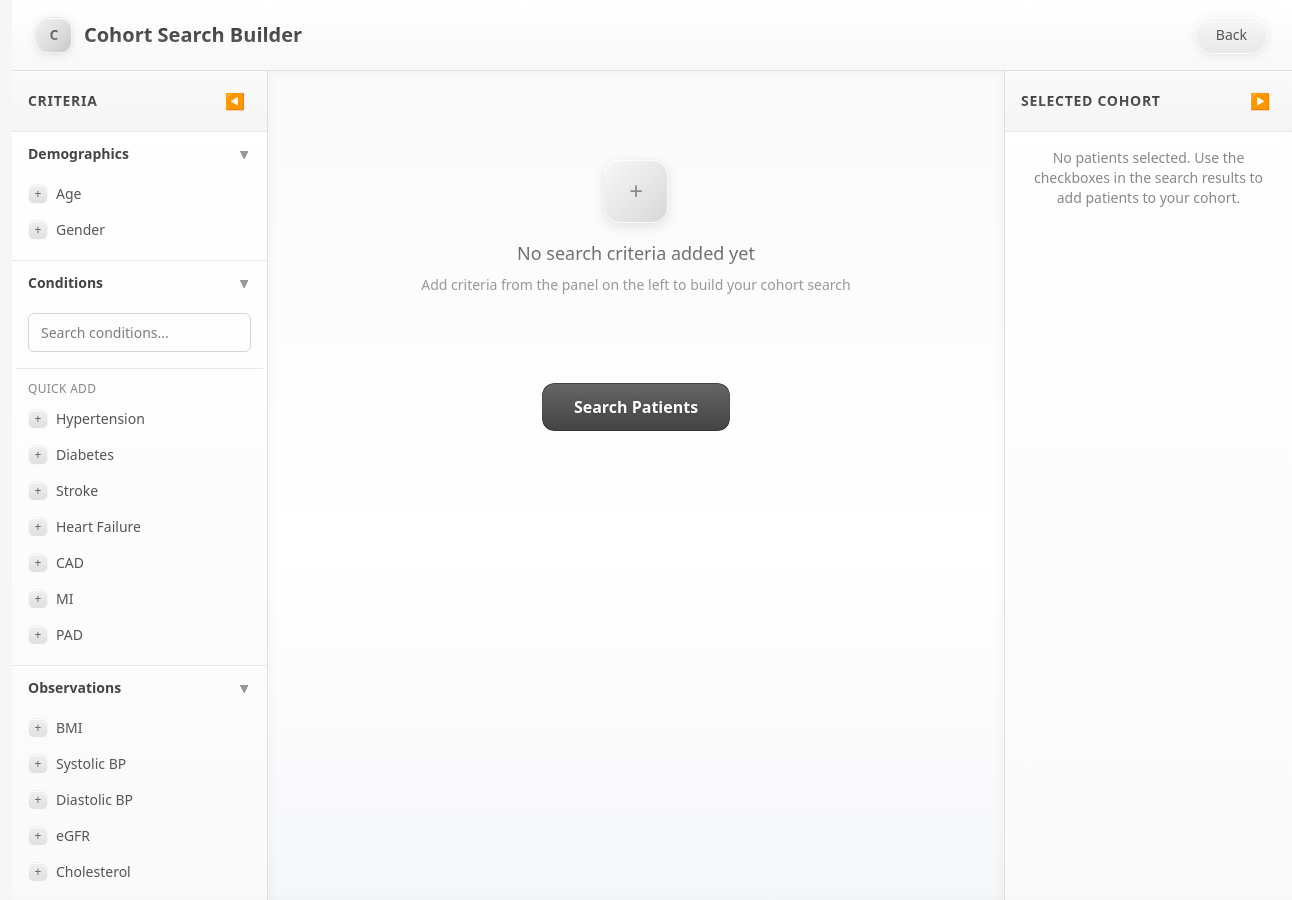
it: CohortBuilderPage › Adding criteria › should add age criterion when Age button clicked
Click the button with aria-label "Add Age": x=140, y=194 [16,176,263,212]
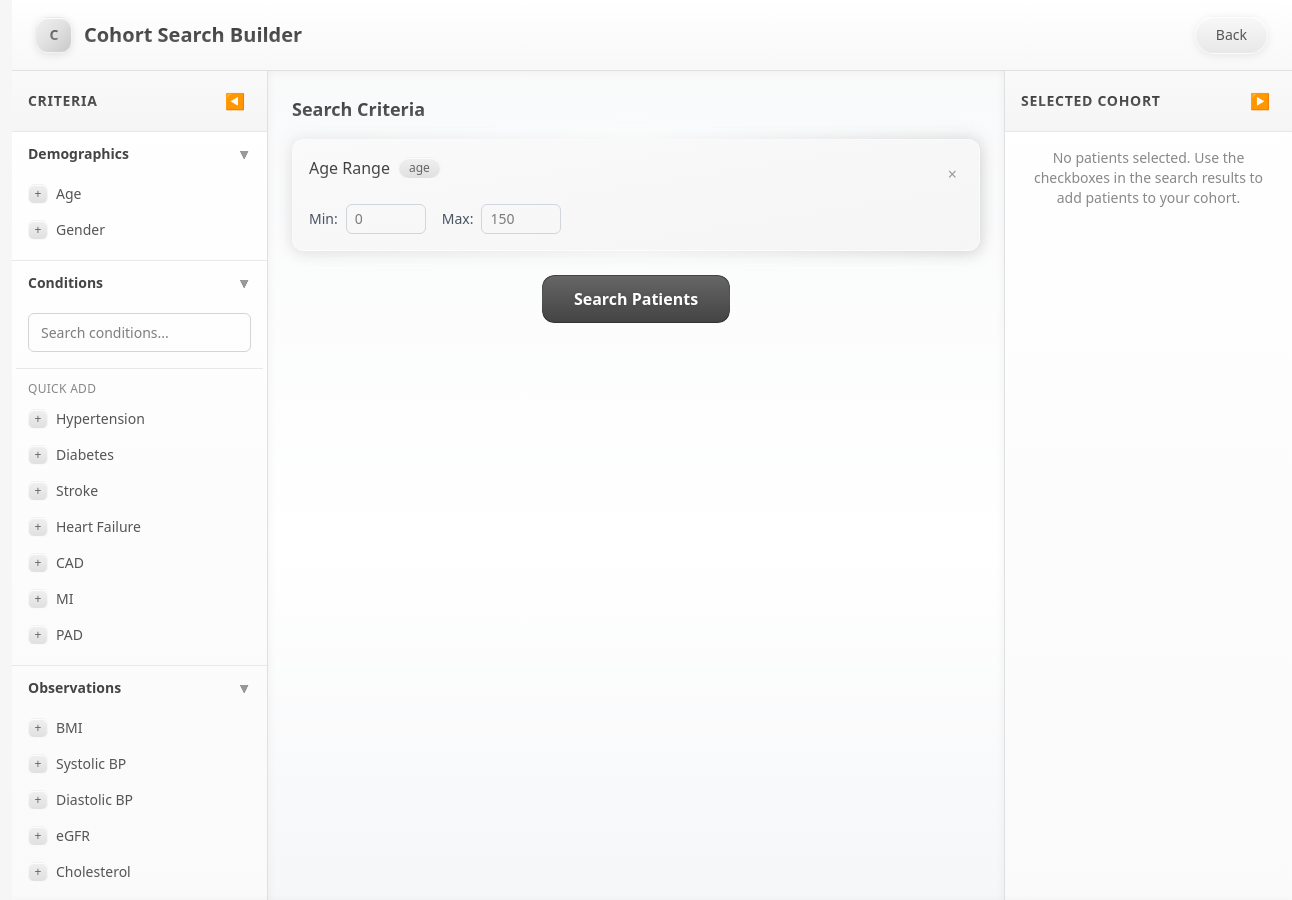
Expected: the heading "Age Range" is shown, [309,156,390,180]
Expected: the number field named "Minimum age" is shown, [346,204,426,234]
Expected: the number field named "Maximum age" is shown, [481,204,561,234]
